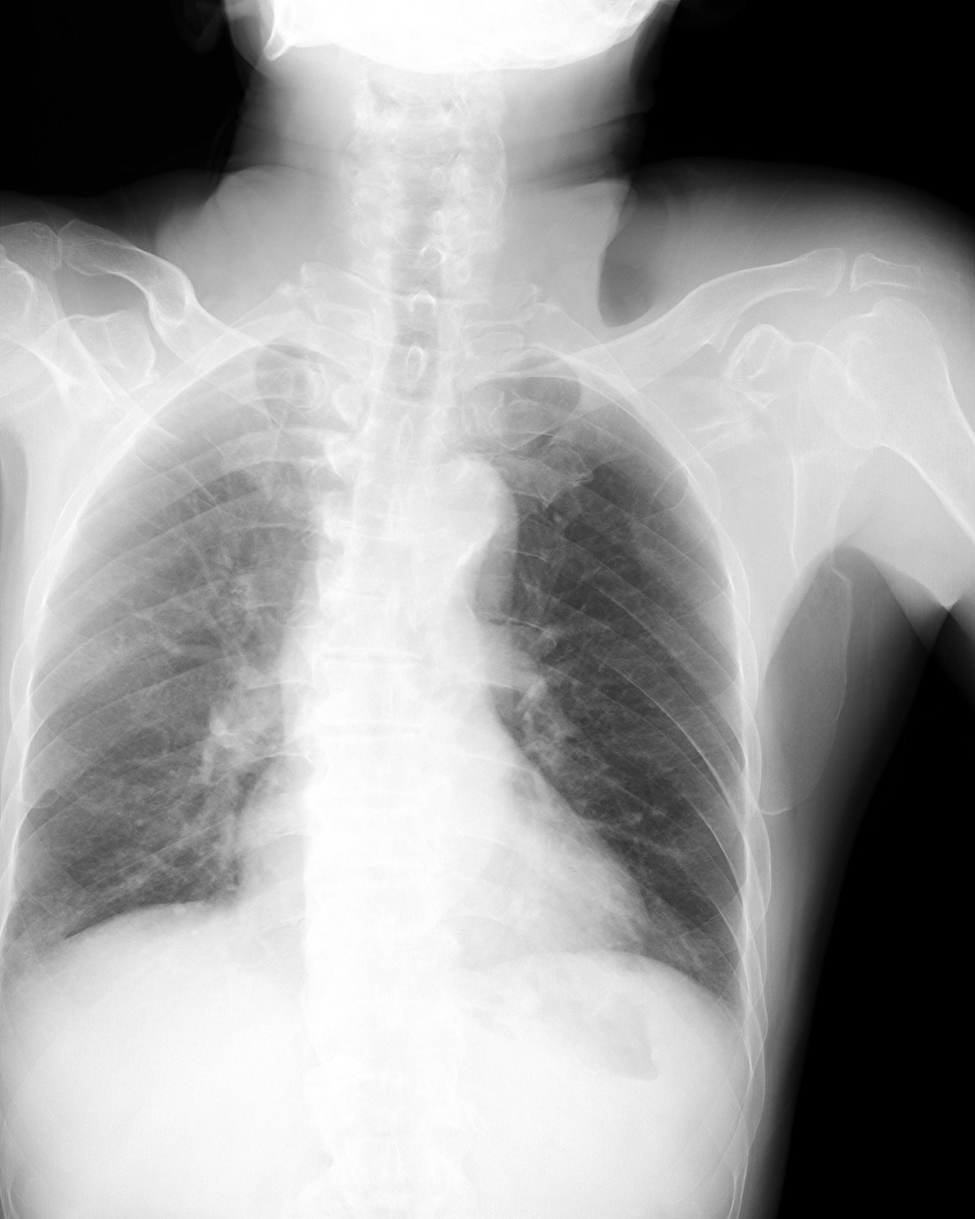Aortic enlargement: (414, 458, 519, 580)
Pulmonary fibrosis: (120, 463, 248, 647)
